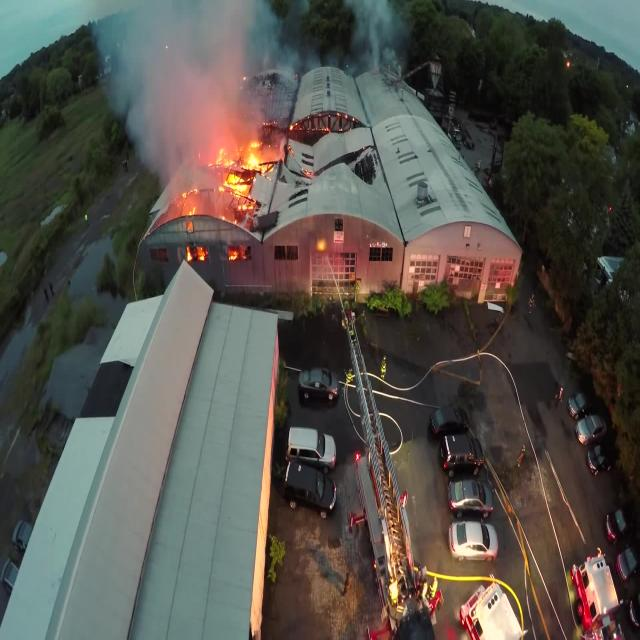smoke: (100, 2, 268, 126), (352, 2, 396, 65)
